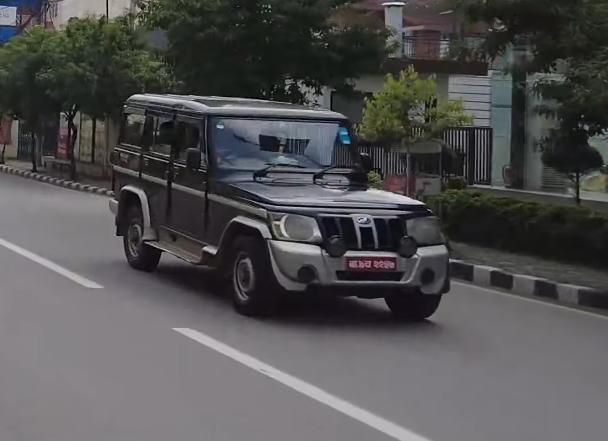SUV: (110, 83, 453, 324)
